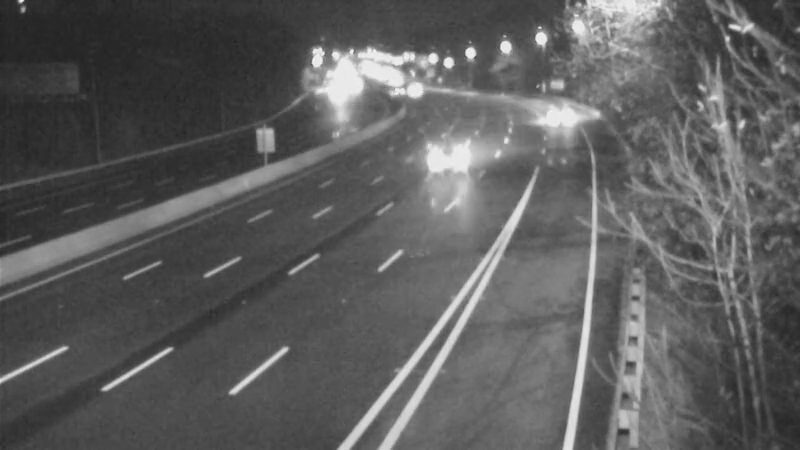vehicle: (405, 115, 485, 195), (527, 102, 577, 152)
